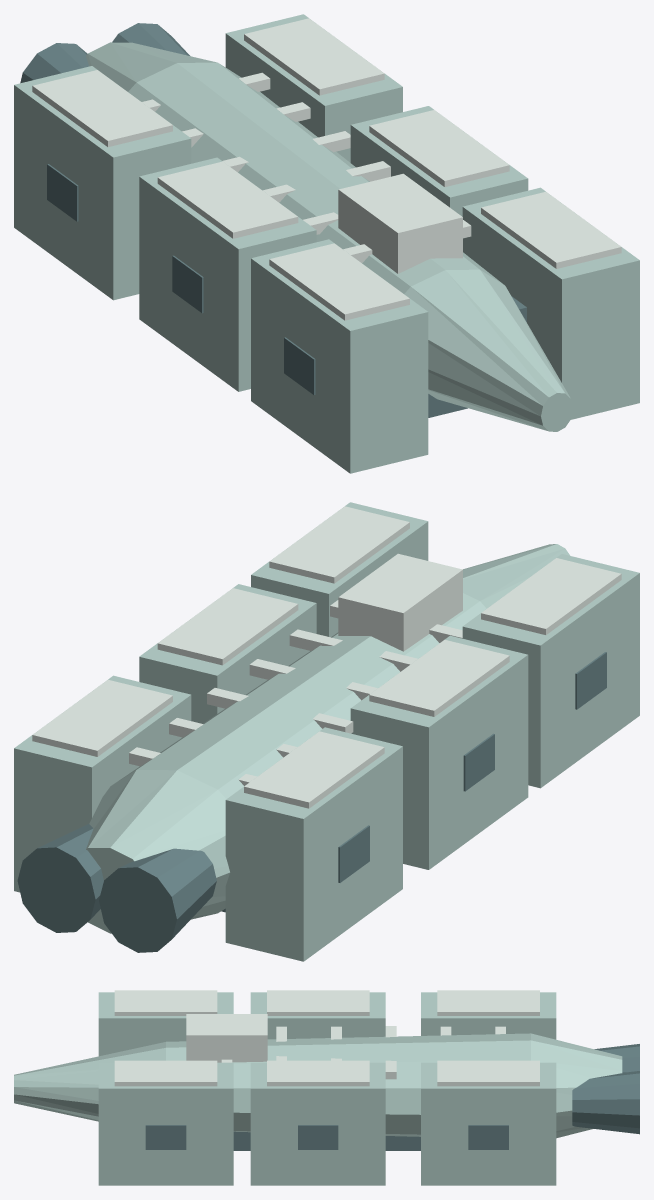
3 renders of one model, top to bottom at view 1: azimuth 30°, elevation 25°; view 2: azimuth 150°, elevation 25°; view 3: azimuth 270°, elevation 25°, orthographic. The views are drawn at different scales.
Bounding box in the file's own units: 3.78 × 2.05 × 10.28.
